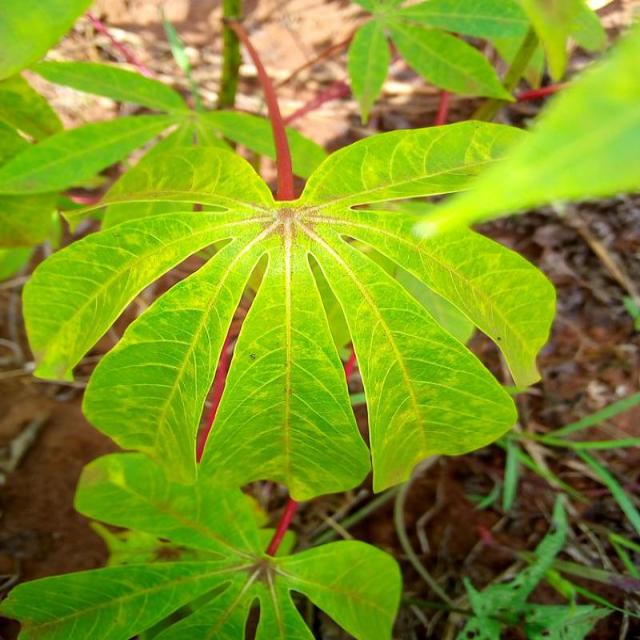cassava leaf: (22, 115, 557, 504)
